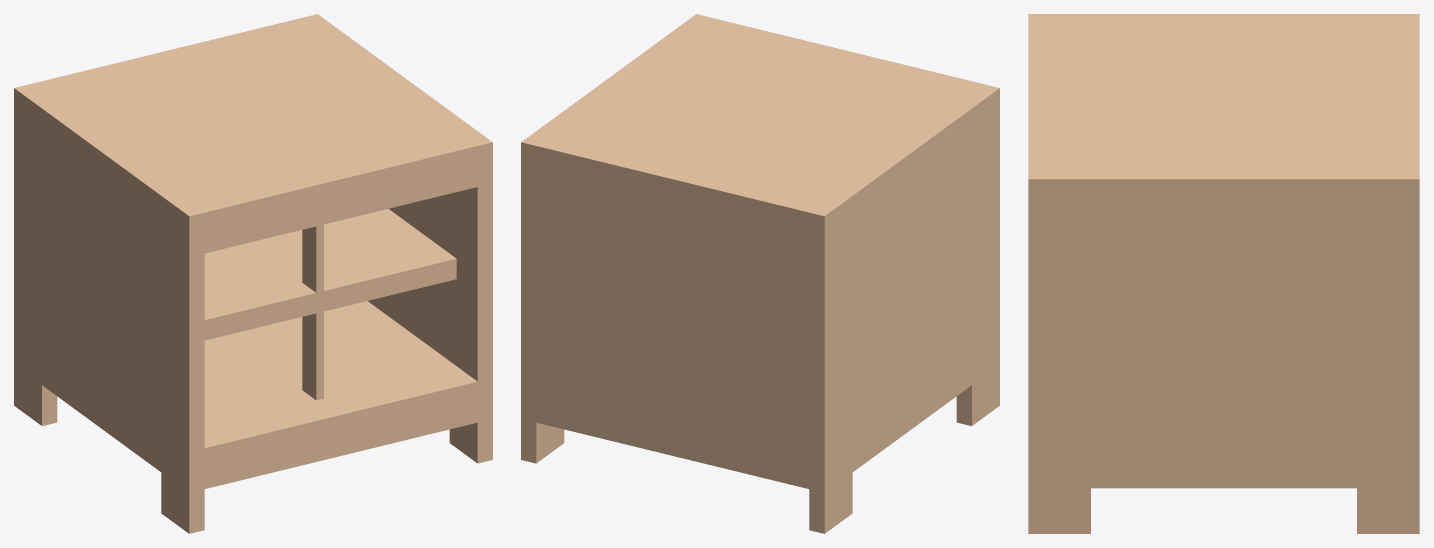
File: kn-cabinet-television.glb
3 renders of one model, left to right at view 1: azimuth 30°, elevation 25°; view 2: azimuth 150°, elevation 25°; view 3: azimuth 270°, elevation 25°, orthographic. The views are drawn at different scales.
Visible parts, largest first — view 1: cabinetTelevision(Clone); view 2: cabinetTelevision(Clone); view 3: cabinetTelevision(Clone).
Part boxes in pixels (left/top/right/bottom): cabinetTelevision(Clone): left=14, top=14, right=492, bottom=533; cabinetTelevision(Clone): left=521, top=14, right=999, bottom=533; cabinetTelevision(Clone): left=1028, top=14, right=1419, bottom=533.
Bounding box in the file's own units: 1 × 1 × 1.
